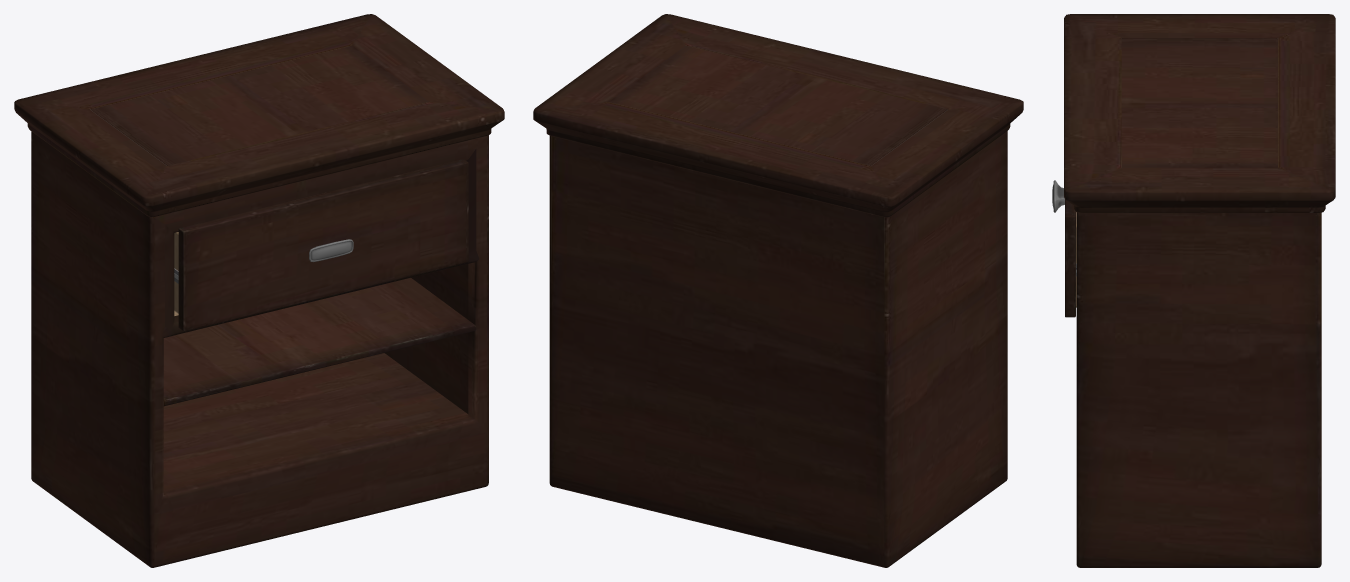
The model's file is meuble-niche.glb.
The picture shows the model from 3 angles, left to right: view 1: azimuth 30°, elevation 25°; view 2: azimuth 150°, elevation 25°; view 3: azimuth 270°, elevation 25°; orthographic projection.
Parts seen in each view (by area): view 1: Table; view 2: Table; view 3: Table.
Part boxes in pixels (x1=…): Table: x1=14, y1=14, x2=504, y2=567; Table: x1=533, y1=14, x2=1023, y2=567; Table: x1=1052, y1=14, x2=1335, y2=567.
Bounding box in the file's own units: 5.88 × 5.89 × 3.95.
1 material, 1 textured.
